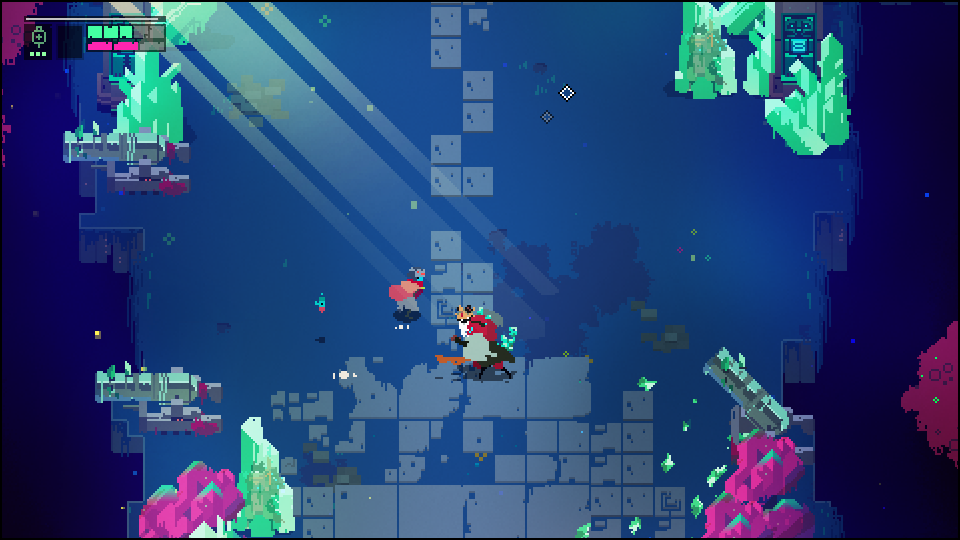hanged_man: (435, 304, 519, 374)
player: (386, 266, 429, 322)
